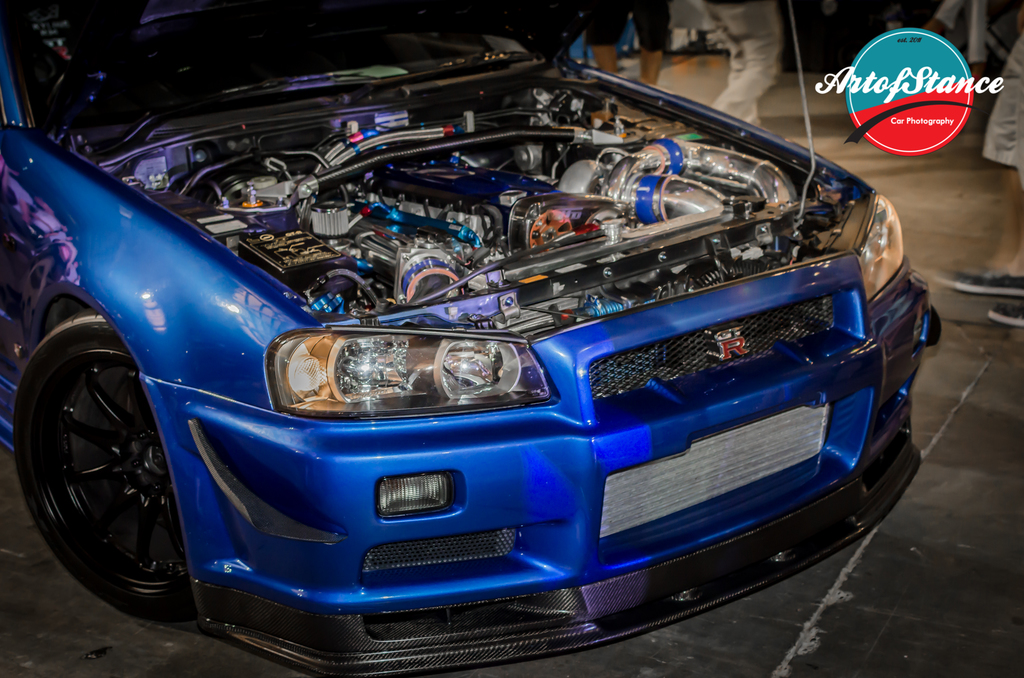Car: (0, 1, 940, 677)
